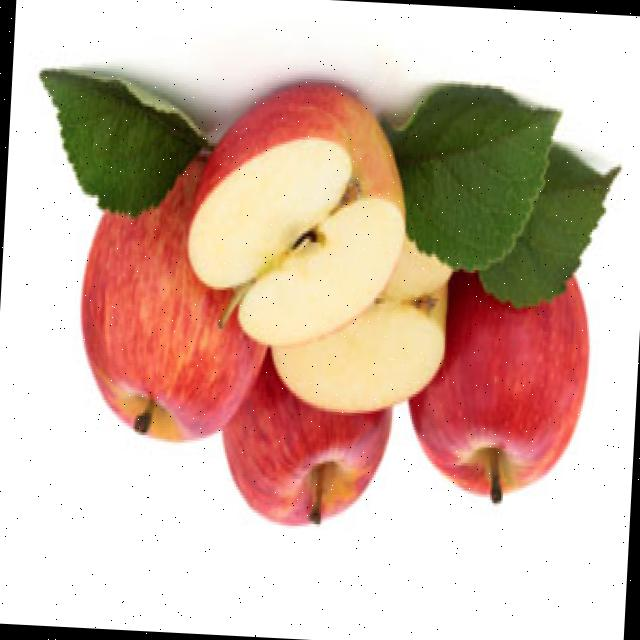Apel: (182, 75, 412, 358), (72, 148, 277, 450), (402, 267, 593, 511), (216, 348, 395, 534), (268, 274, 448, 421), (378, 232, 455, 308)
